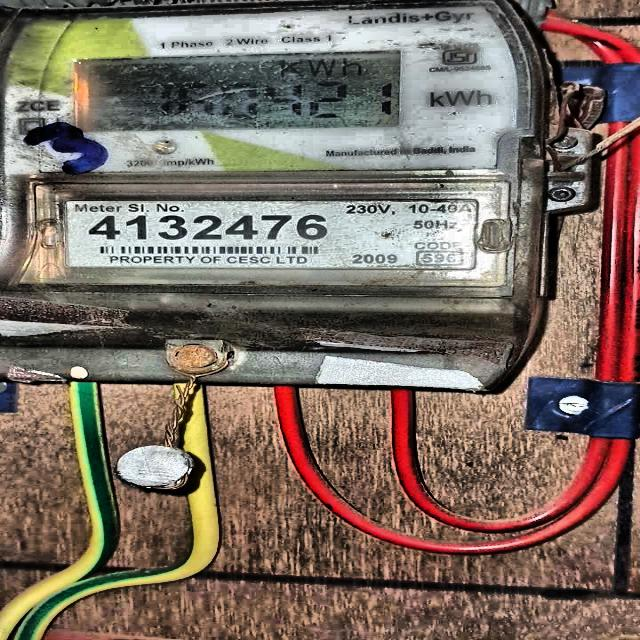Digital: (4, 7, 533, 384)
Reading: (143, 80, 400, 126)
Serial No.: (87, 213, 329, 241)
